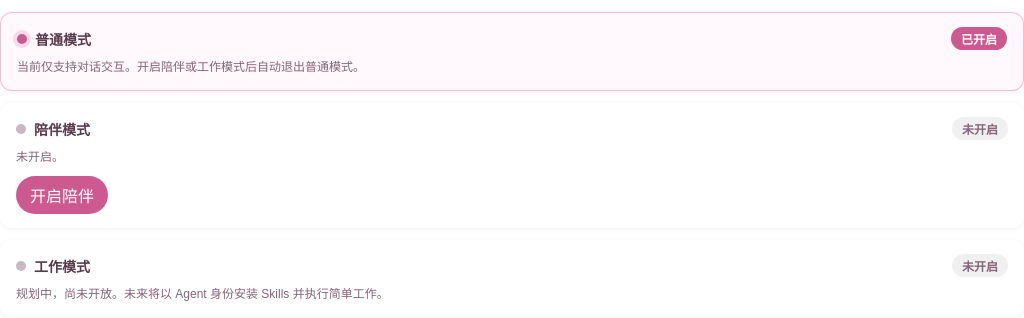
it: ModeStatus › toggles companion from the panel and refreshes state
Click the button "开启陪伴". click: [62, 195]
box: [16,176,108,214]
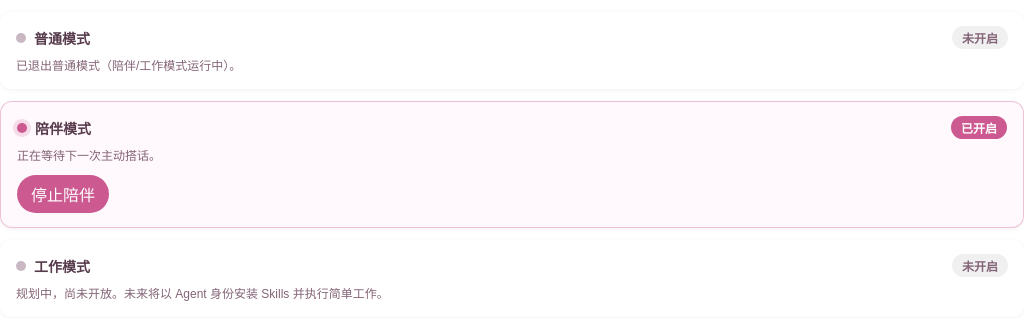
Expected: the button "停止陪伴" is shown, [17,175,109,213]
